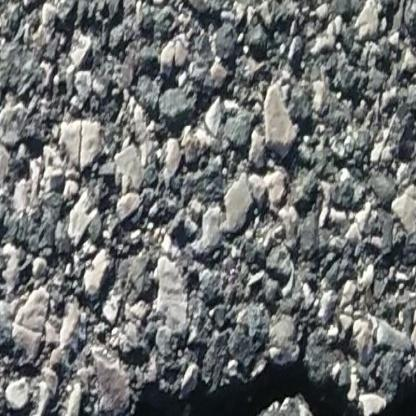Cracks: (46, 339, 416, 416)
